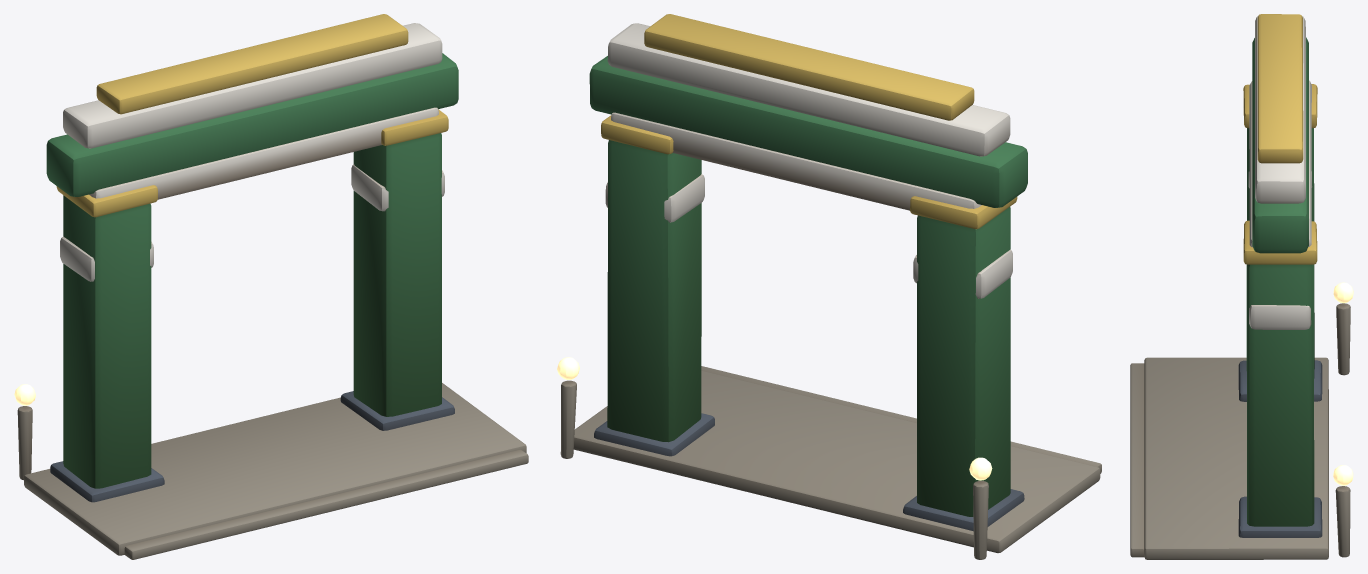
3 views of the same model, side by side, from view 1: azimuth 30°, elevation 25°; view 2: azimuth 150°, elevation 25°; view 3: azimuth 270°, elevation 25° (orthographic). The views are drawn at different scales.
Visible parts, largest first — view 1: gate_0b98c852; view 2: gate_0b98c852; view 3: gate_0b98c852.
Boxes of the visible parts, x1,y1,x2,y2 form: gate_0b98c852: (14, 14, 528, 559); gate_0b98c852: (557, 14, 1101, 559); gate_0b98c852: (1130, 14, 1353, 559).
Size of the model in its own units: 5.18 by 4.84 by 2.54.
